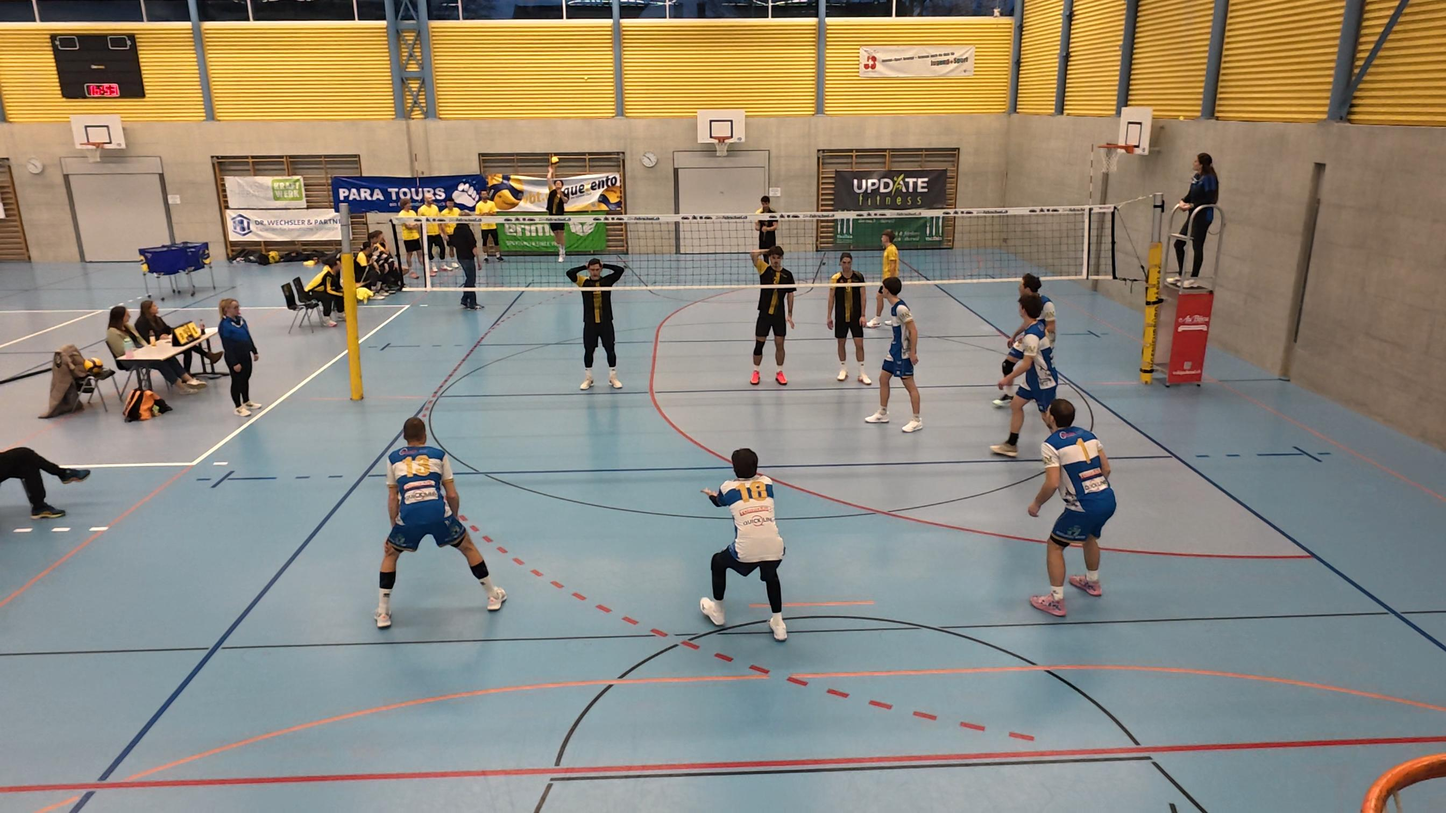battuta: (536, 161, 572, 265)
